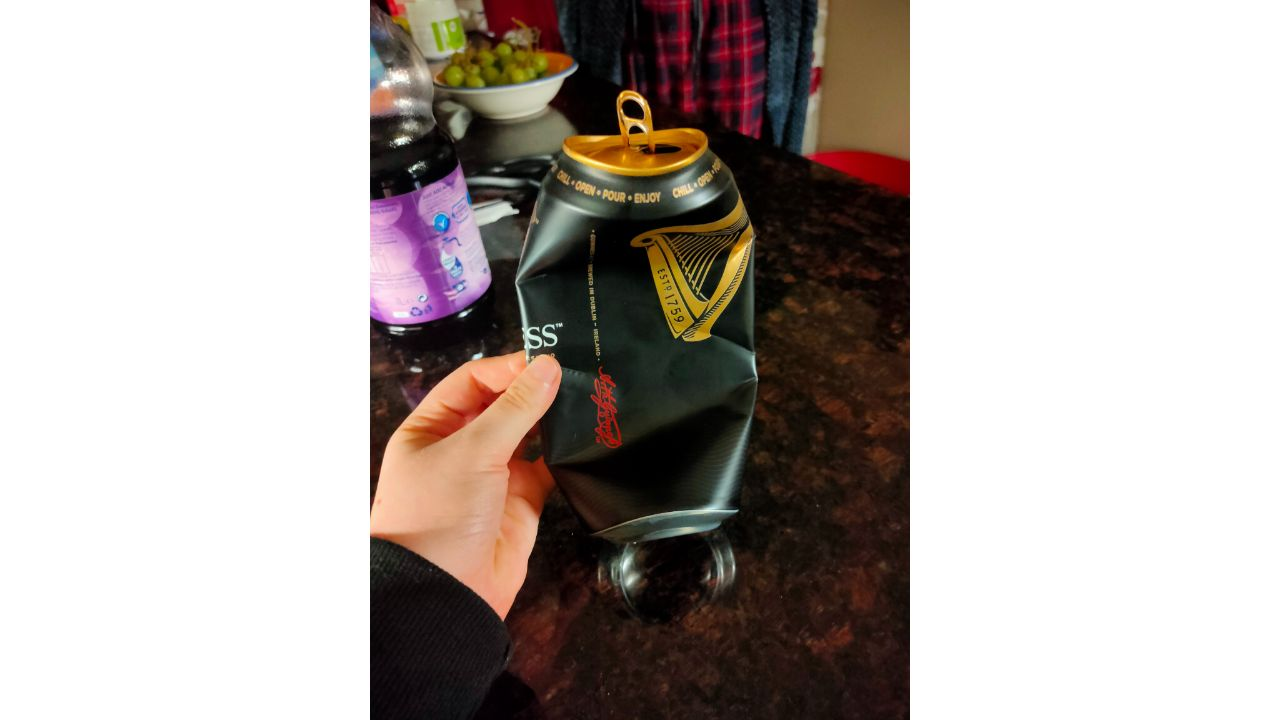Can: (517, 92, 782, 561)
